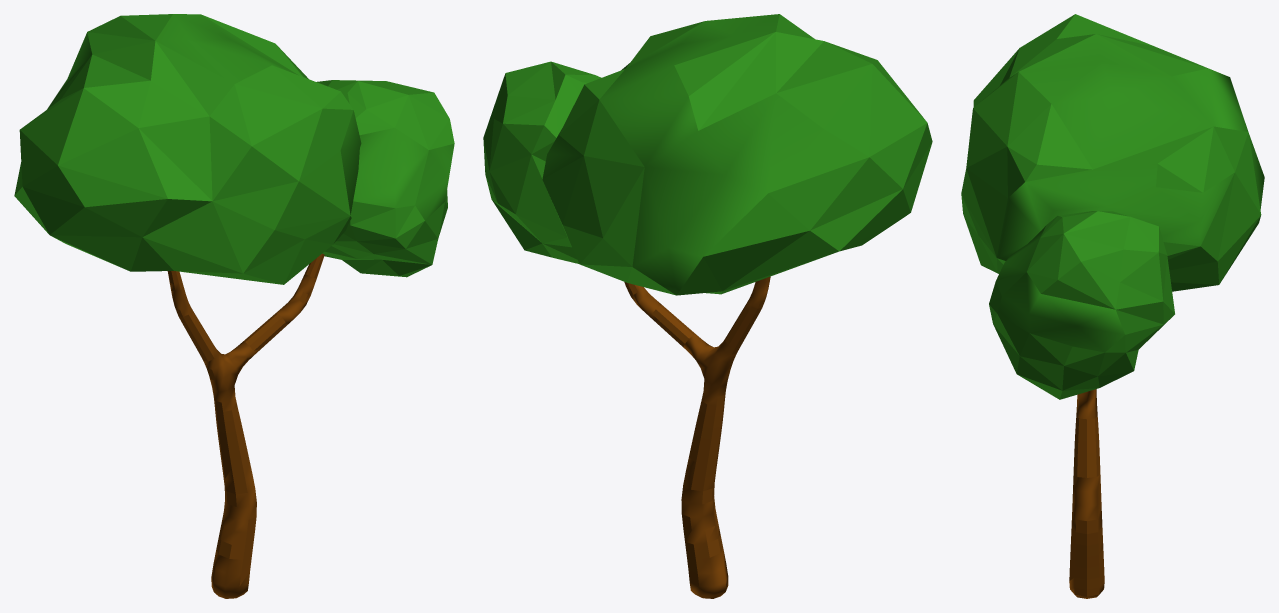
File: tree_a.glb
3 views of the same model, side by side, from view 1: azimuth 30°, elevation 25°; view 2: azimuth 150°, elevation 25°; view 3: azimuth 270°, elevation 25° (orthographic). The views are drawn at different scales.
Visible parts, largest first — view 1: tree_a; view 2: tree_a; view 3: tree_a.
Part boxes in pixels (x1,y1,x2,y2): tree_a: [14, 14, 454, 598]; tree_a: [483, 14, 932, 598]; tree_a: [961, 14, 1264, 598].
Size of the model in its own units: 2.66 by 3.49 by 1.81.
